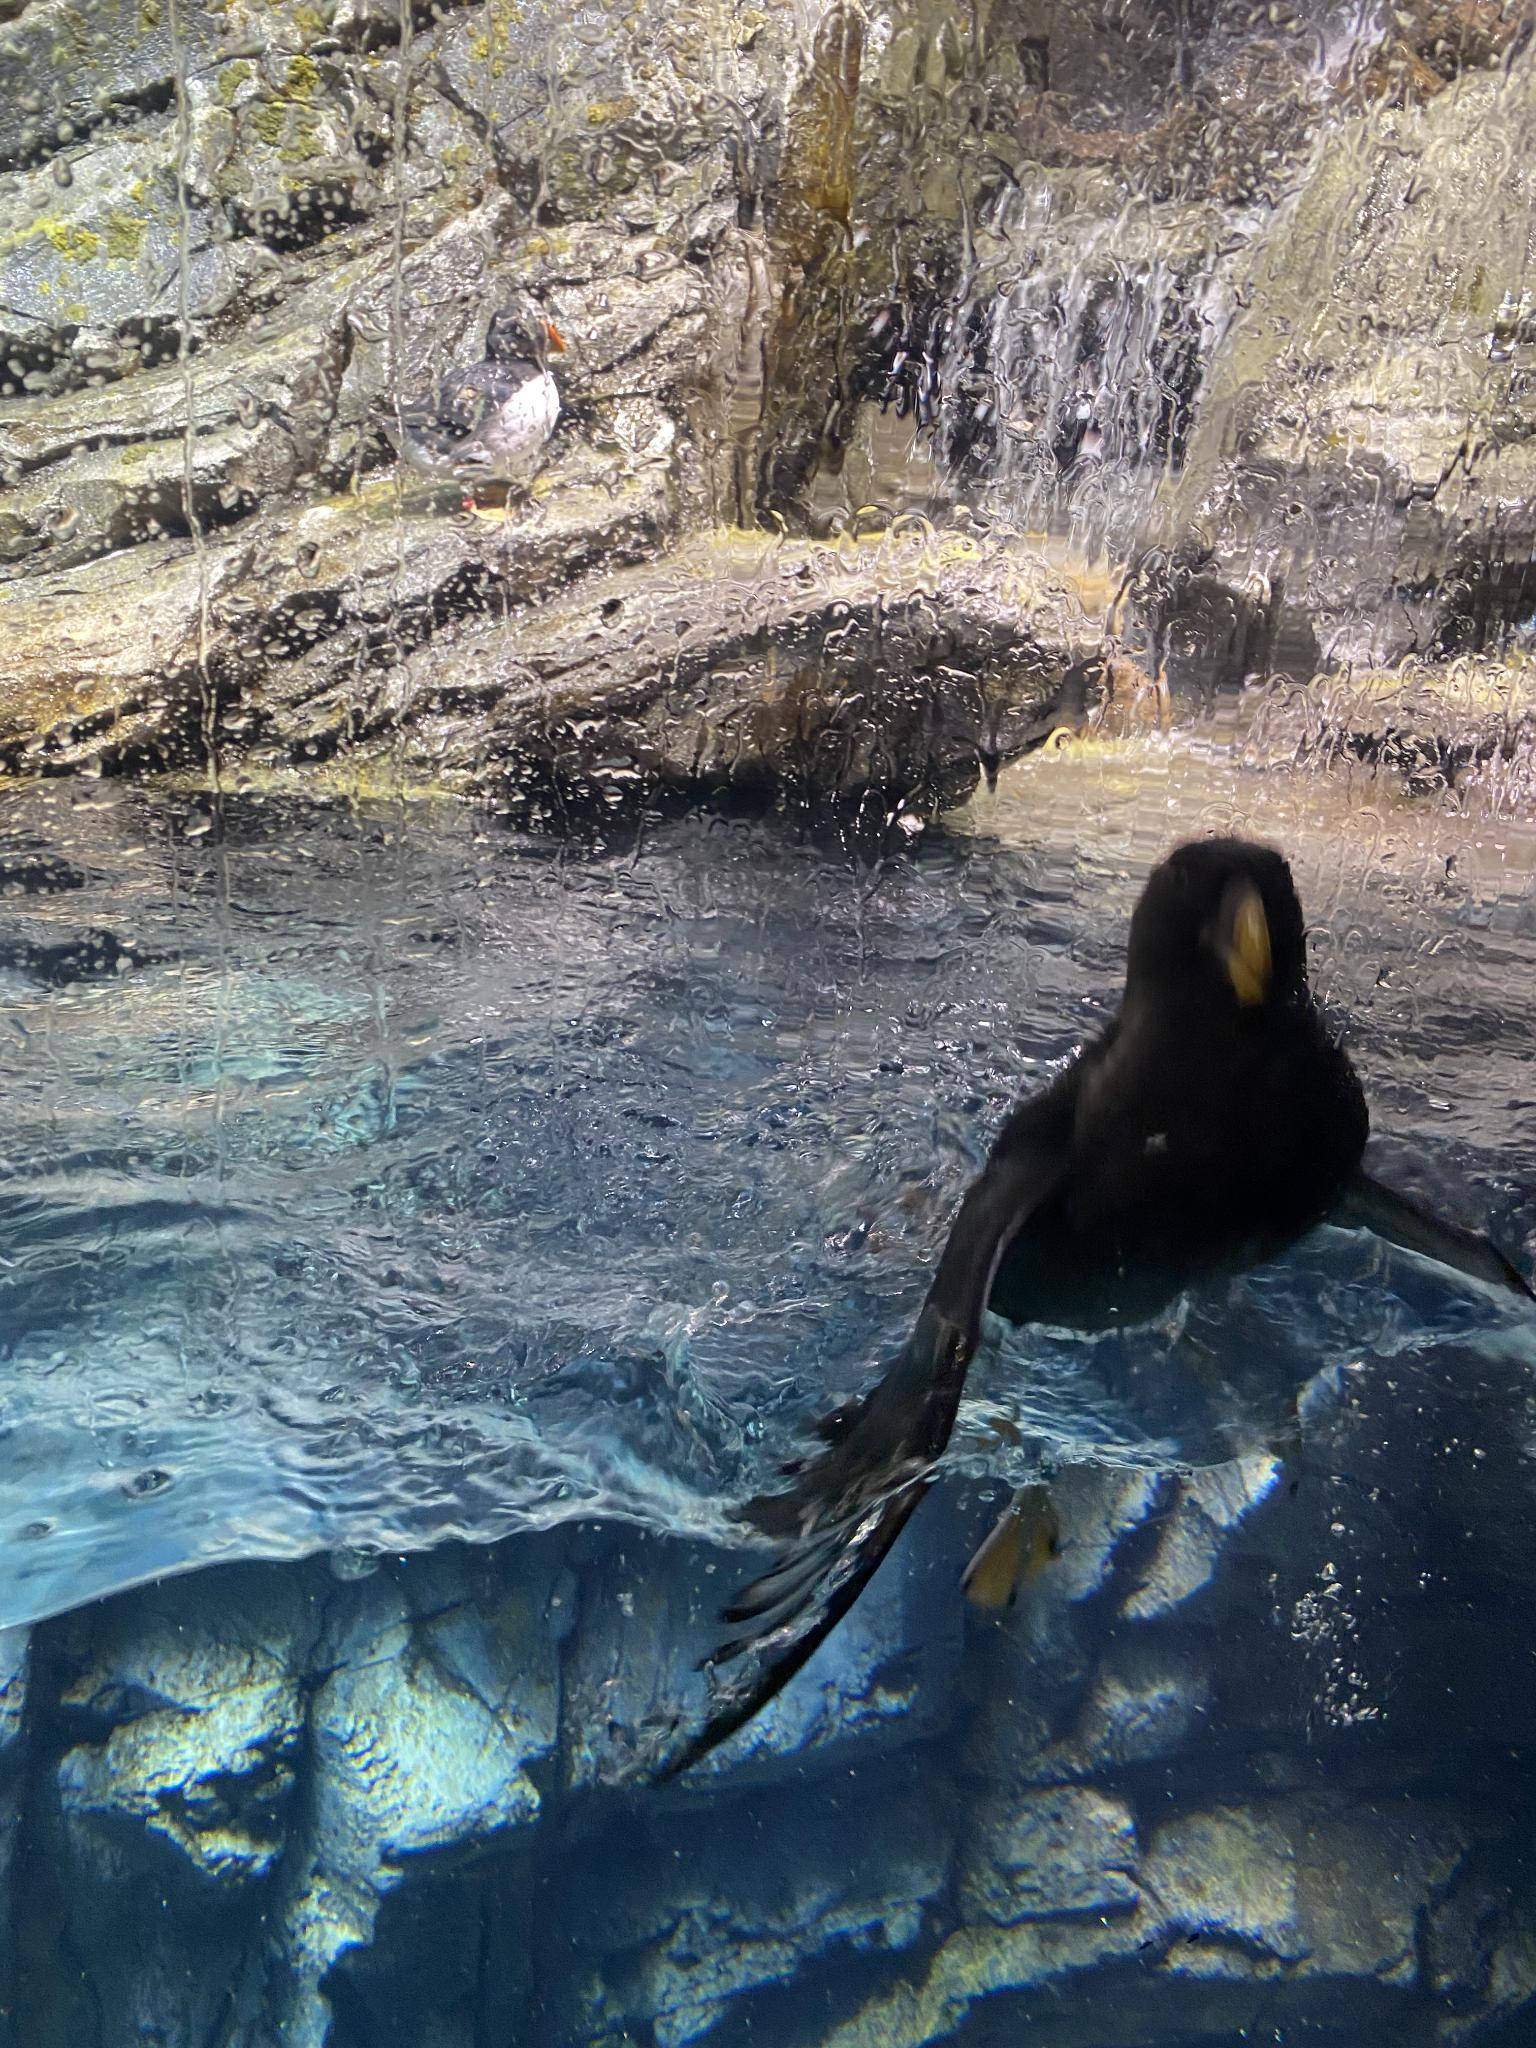puffin: (687, 829, 1534, 1732), (365, 292, 578, 526)
